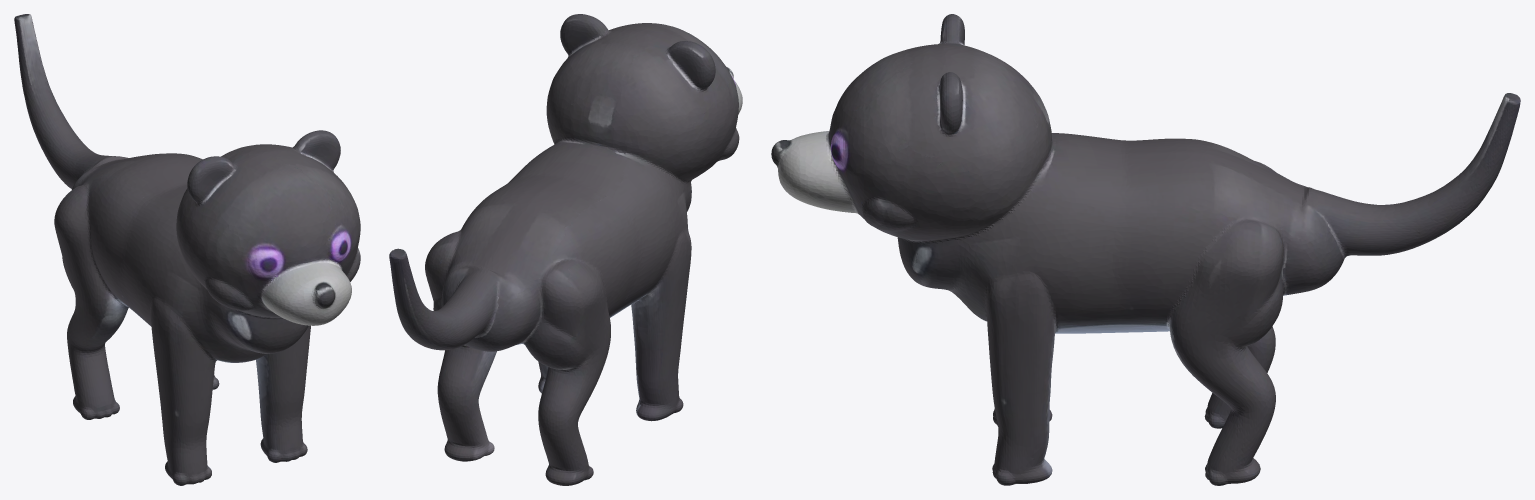
The model's file is creature-094.glb.
3 renders of one model, left to right at view 1: azimuth 30°, elevation 25°; view 2: azimuth 150°, elevation 25°; view 3: azimuth 270°, elevation 25°, orthographic. The views are drawn at different scales.
Visible parts, largest first — view 1: tmpzypsxpbd.ply; view 2: tmpzypsxpbd.ply; view 3: tmpzypsxpbd.ply.
Part boxes in pixels (x1,y1,x2,y2): tmpzypsxpbd.ply: (14,14,360,485); tmpzypsxpbd.ply: (389,14,742,485); tmpzypsxpbd.ply: (771,14,1520,485).
Bounding box in the file's own units: 0.5879 × 1.19 × 1.99.
1 material, 1 textured.
